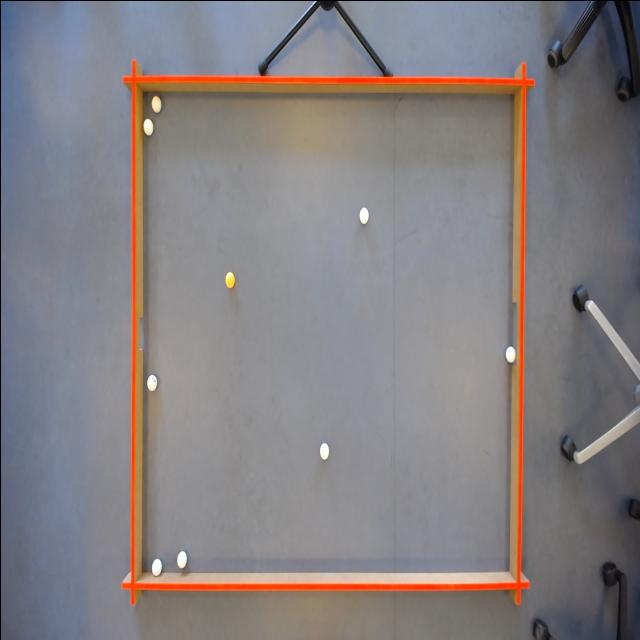orange_ball: (223, 267, 235, 291)
white_ball: (174, 548, 187, 574), (149, 552, 163, 576), (140, 116, 154, 140), (358, 204, 372, 228), (144, 370, 158, 394), (317, 436, 329, 462), (149, 90, 161, 116), (504, 343, 516, 365)
